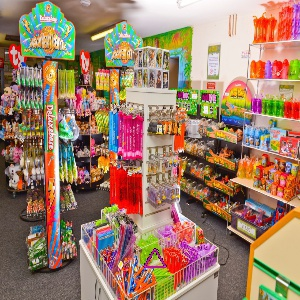triangle: (141, 247, 168, 270)
